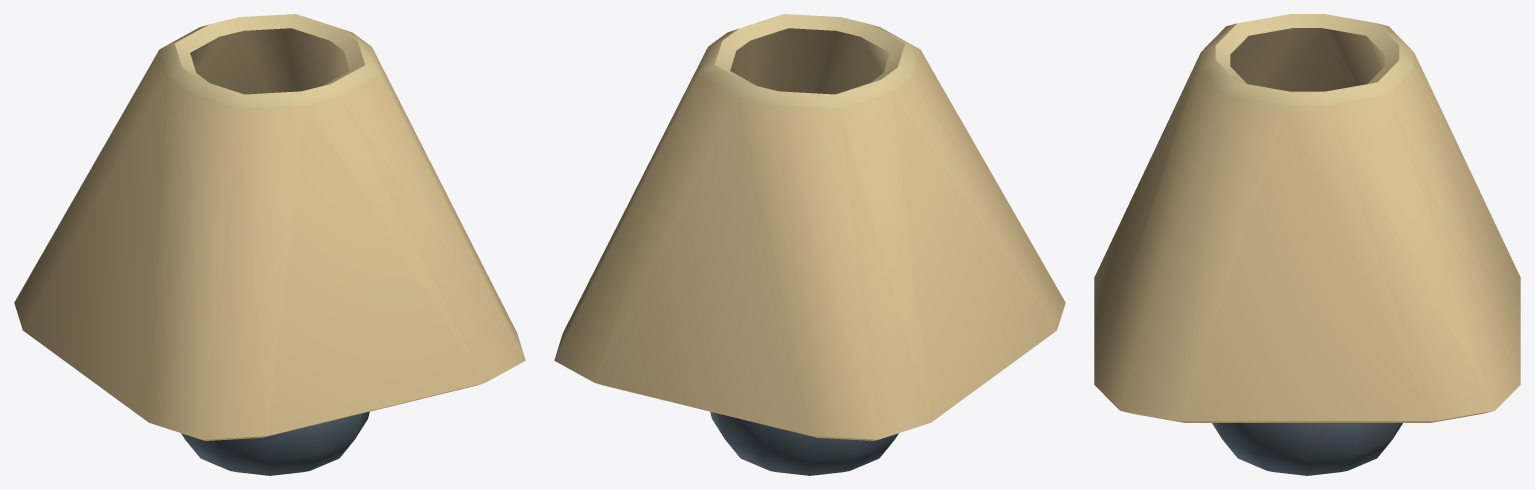
The model's file is table-lamp.high.68685c73.glb.
3 views of the same model, side by side, from view 1: azimuth 30°, elevation 25°; view 2: azimuth 150°, elevation 25°; view 3: azimuth 270°, elevation 25° (orthographic).
Parts seen in each view (by area): view 1: table-lamp; view 2: table-lamp; view 3: table-lamp.
Boxes of the visible parts, left/top/right/bottom form: table-lamp: left=14, top=14, right=525, bottom=475; table-lamp: left=554, top=14, right=1065, bottom=475; table-lamp: left=1094, top=14, right=1520, bottom=475.
Size of the model in its own units: 0.5383 by 0.55 by 0.5383.
